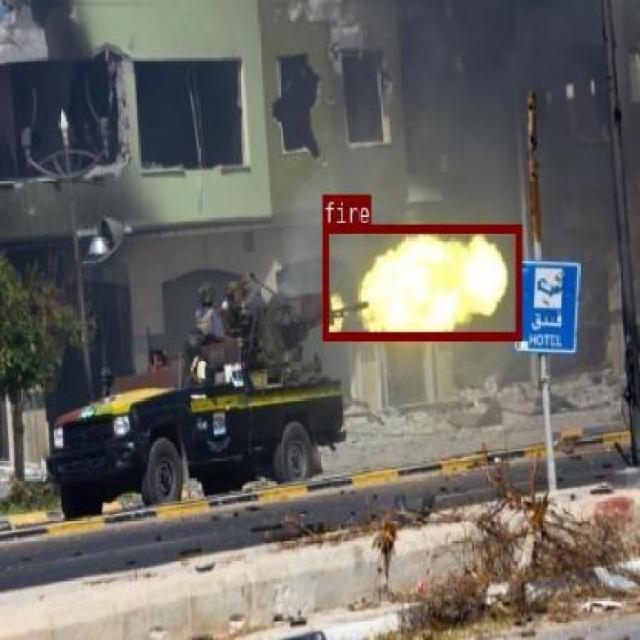Fire: (322, 222, 521, 340)
Smoke: (346, 28, 602, 192)
